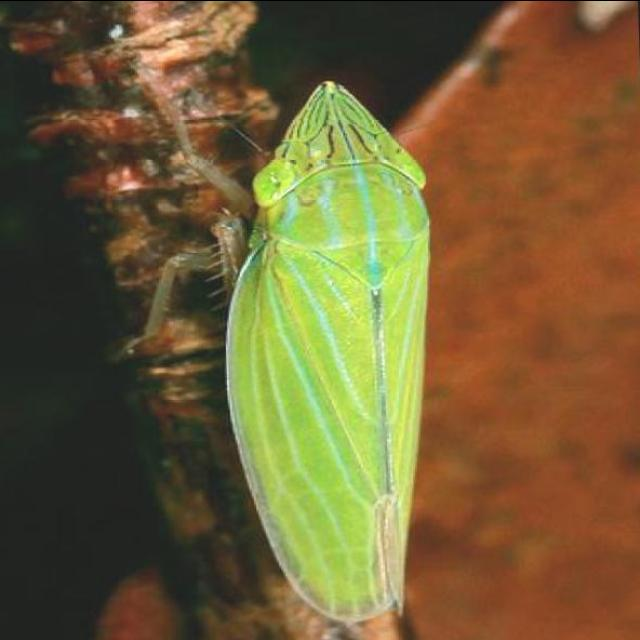green leaf hopper: (227, 81, 429, 621)
